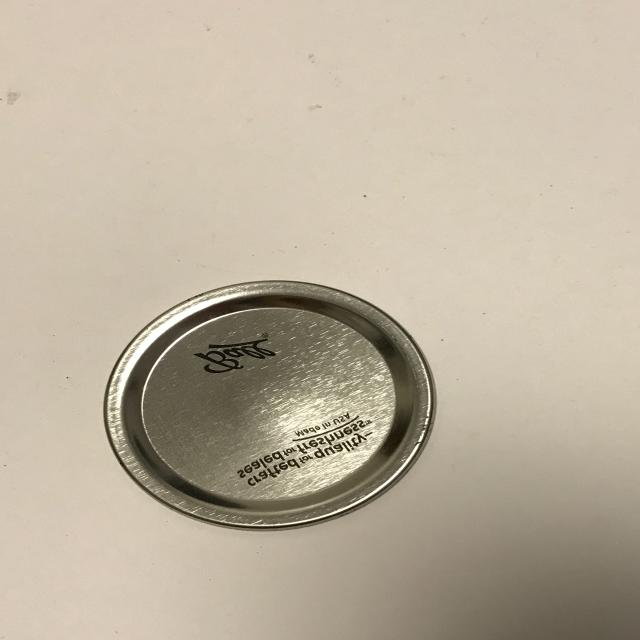metal: (103, 279, 438, 531)
